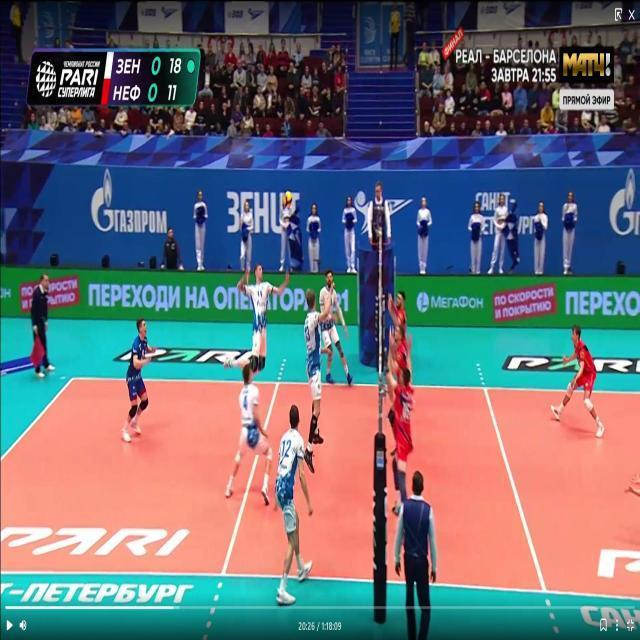volleyball: (283, 192, 292, 208)
